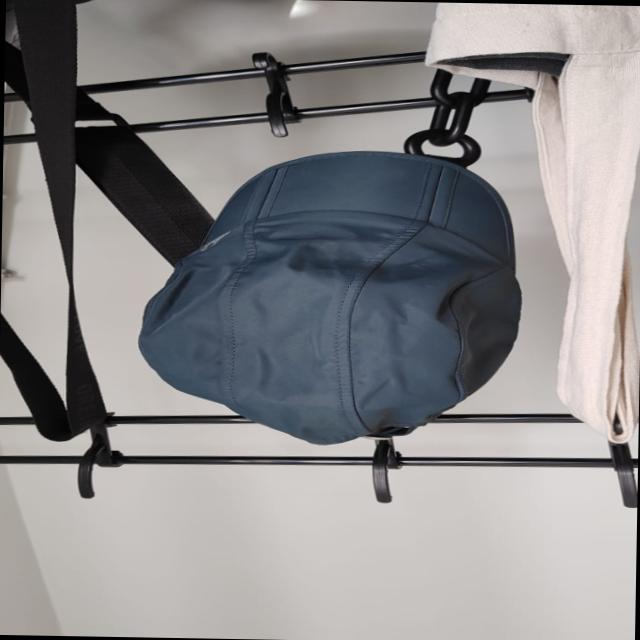Gorra: (122, 144, 528, 446)
